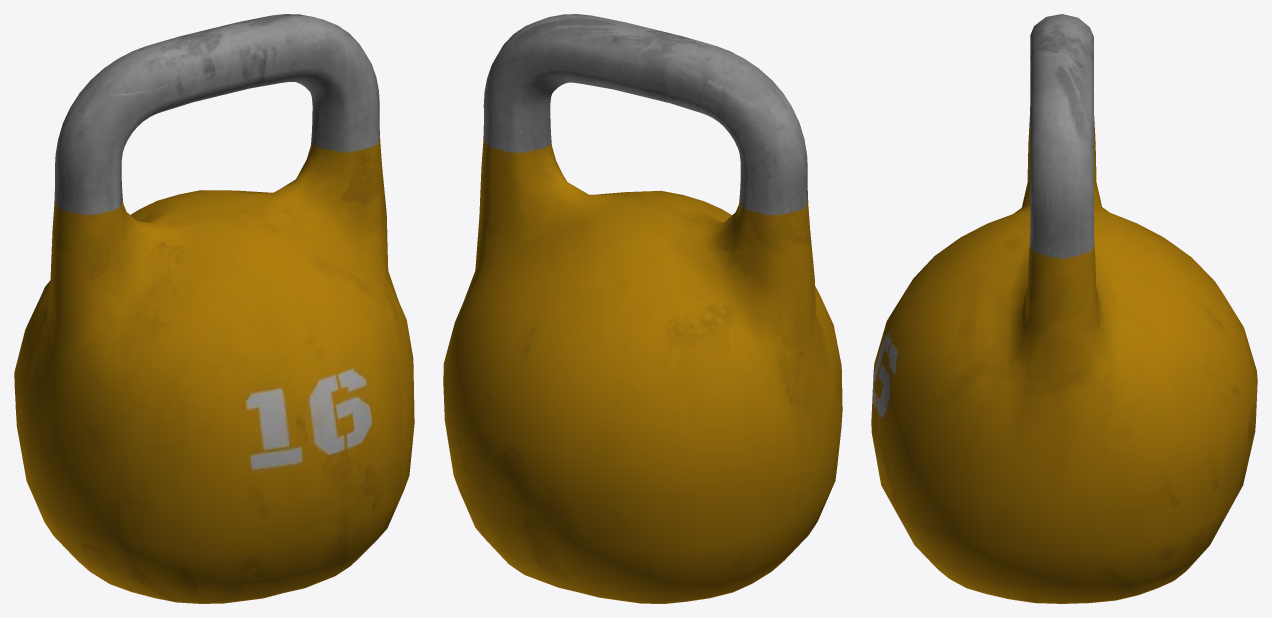
The model's file is kettlebell16.glb.
The picture shows the model from 3 angles, left to right: view 1: azimuth 30°, elevation 25°; view 2: azimuth 150°, elevation 25°; view 3: azimuth 270°, elevation 25°; orthographic projection. The views are drawn at different scales.
Parts seen in each view (by area): view 1: kettlebell16; view 2: kettlebell16; view 3: kettlebell16.
Boxes of the visible parts, x1,y1,x2,y2 form: kettlebell16: (14,14,414,603); kettlebell16: (443,14,842,603); kettlebell16: (871,14,1257,603).
Size of the model in its own units: 0.1904 by 0.2706 by 0.1908.
Materials: 1 (1 with a texture image).
